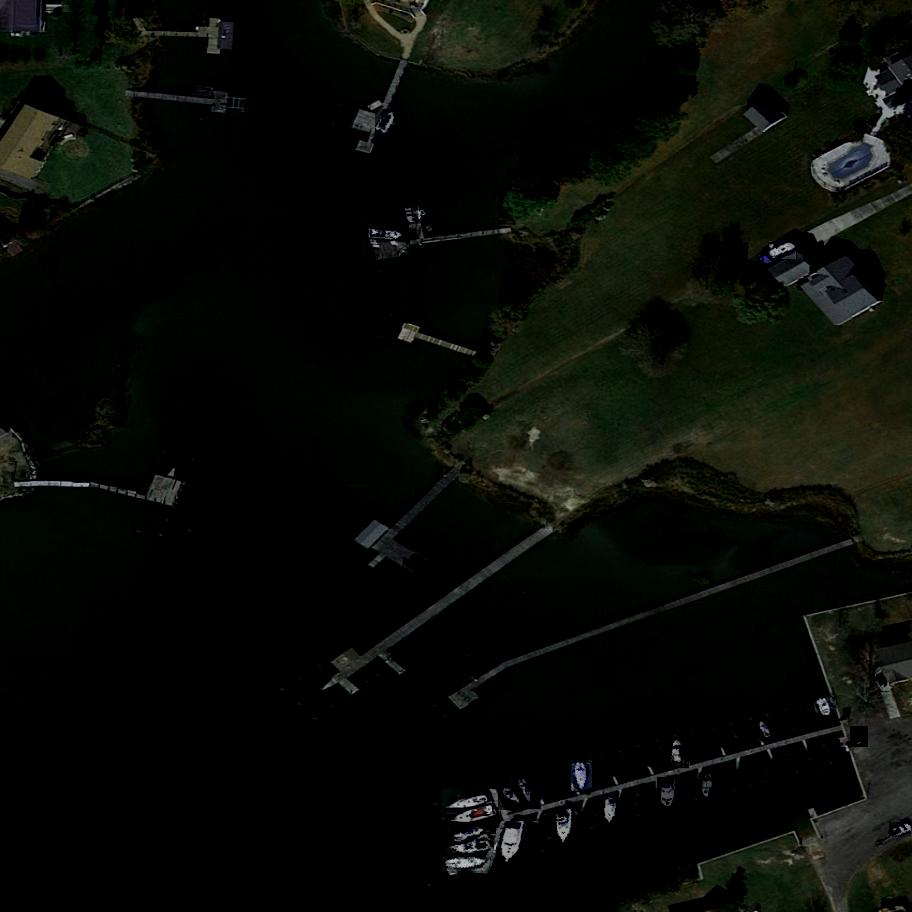ship: (497, 819, 529, 872), (447, 802, 502, 830), (443, 789, 493, 815), (450, 821, 492, 847), (444, 836, 493, 858), (376, 106, 406, 140), (514, 775, 541, 812), (658, 776, 682, 814), (499, 783, 527, 813), (598, 795, 621, 831), (665, 738, 691, 769), (443, 857, 490, 874), (754, 716, 780, 745), (555, 809, 577, 843), (570, 760, 592, 791), (368, 226, 409, 242), (770, 241, 797, 261), (700, 773, 717, 804), (815, 696, 836, 721), (404, 204, 418, 223)
small-vehicle: (851, 727, 869, 749), (889, 822, 912, 838), (875, 673, 890, 693)
